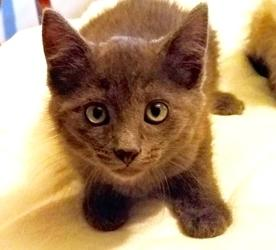rblue: (28, 1, 224, 202)
